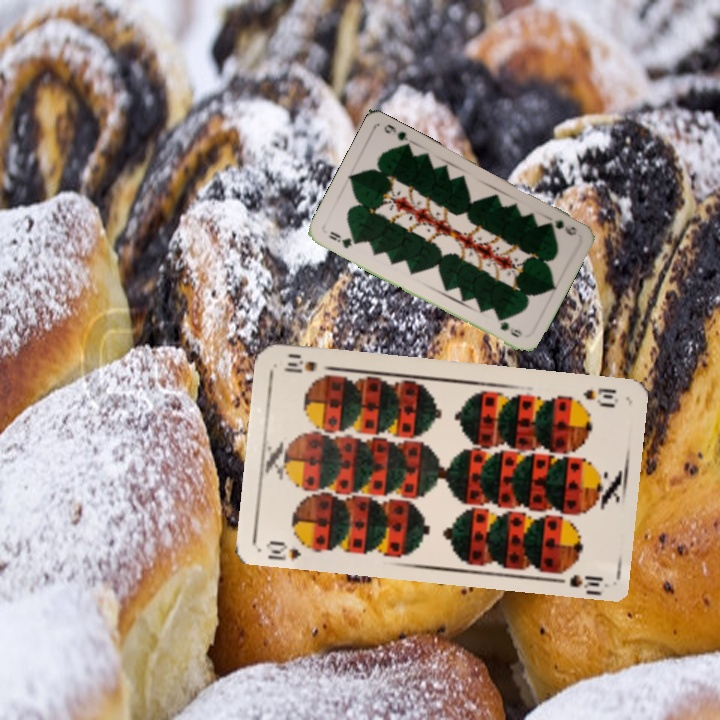G9: (324, 227, 359, 251), (543, 216, 580, 238)
S10: (262, 536, 317, 563), (579, 384, 621, 409)
